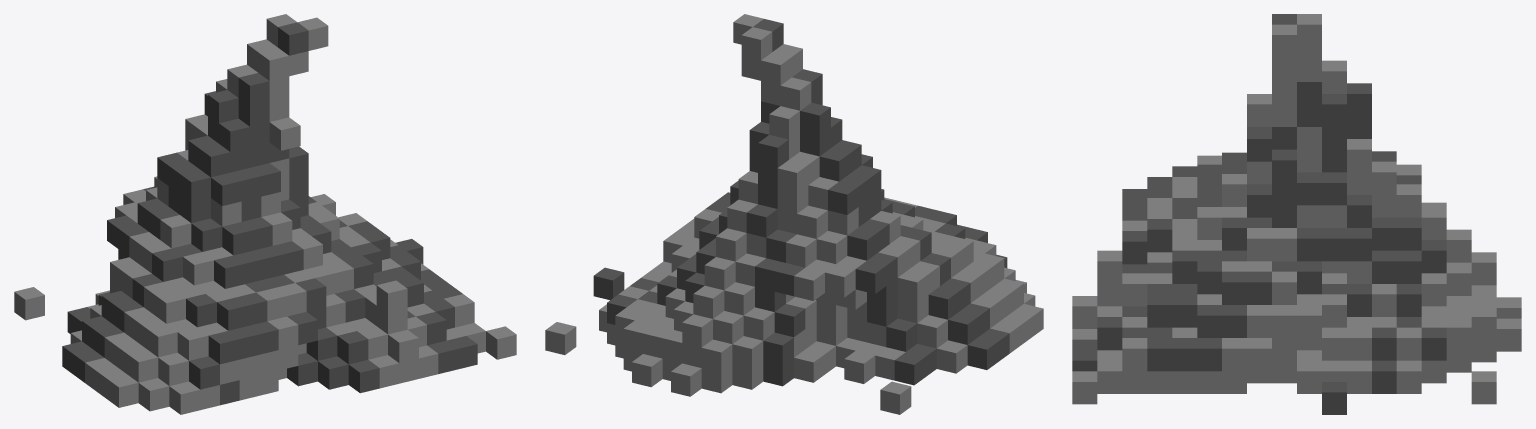
File: decorative_rock.obj
The picture shows the model from 3 angles, left to right: view 1: azimuth 30°, elevation 25°; view 2: azimuth 150°, elevation 25°; view 3: azimuth 270°, elevation 25°; orthographic projection. The views are drawn at different scales.
Parts seen in each view (by area): view 1: decorative_rock; view 2: decorative_rock; view 3: decorative_rock.
Boxes of the visible parts, left/top/right/bottom form: decorative_rock: left=14, top=14, right=516, bottom=414; decorative_rock: left=545, top=14, right=1043, bottom=414; decorative_rock: left=1072, top=14, right=1521, bottom=414.
Bounding box in the file's own units: 19 × 14 × 18.
Materials: 1 (1 with a texture image).
